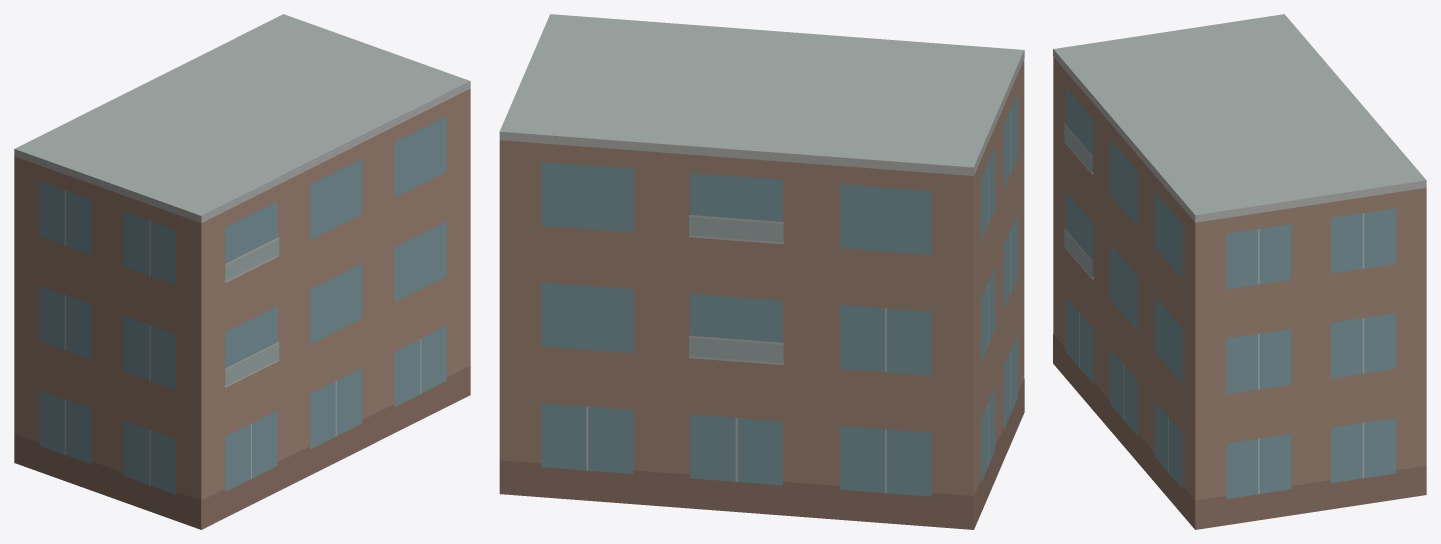
File: survey-upis-32722656.glb
3 views of the same model, side by side, from view 1: azimuth 30°, elevation 25°; view 2: azimuth 150°, elevation 25°; view 3: azimuth 270°, elevation 25° (orthographic). The views are drawn at different scales.
Visible parts, largest first — view 1: survey-upis-32722656.tmp; view 2: survey-upis-32722656.tmp; view 3: survey-upis-32722656.tmp.
Part boxes in pixels (left/top/right/bottom): survey-upis-32722656.tmp: left=14, top=14, right=470, bottom=529; survey-upis-32722656.tmp: left=499, top=14, right=1024, bottom=529; survey-upis-32722656.tmp: left=1053, top=14, right=1426, bottom=529.
Size of the model in its own units: 14.21 by 10.35 by 11.14.
